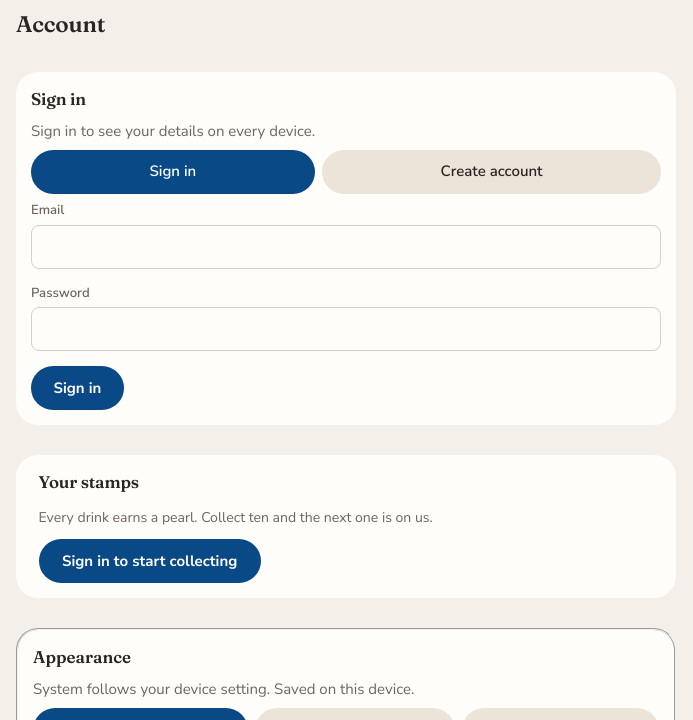
Test: AccountPage › signed out › offers sign in by default and creates an account on the other tab
Expected: the heading "Sign in" is shown, [31,89,86,109]
Click the button "Create account": (492, 172) [322,150,661,194]
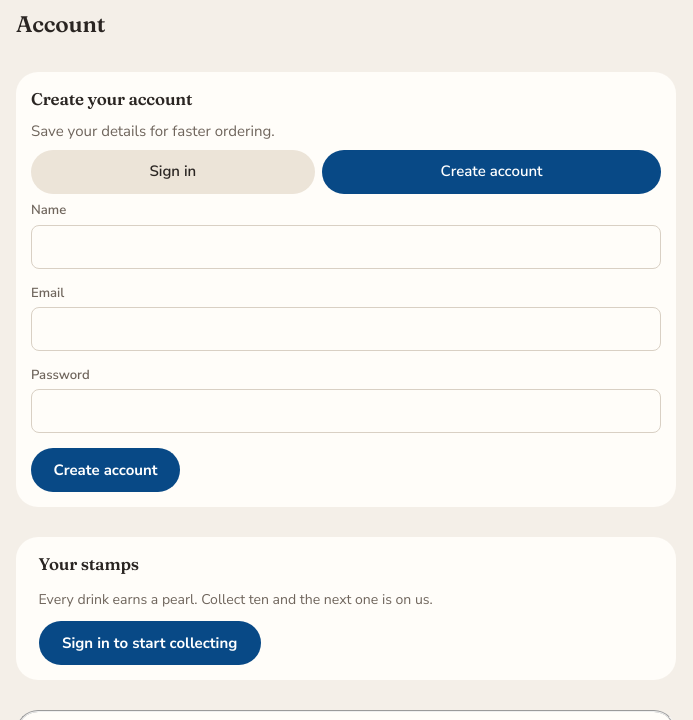
In the field labelled "Name": (346, 246) [31,224,661,268], type "Tristan"
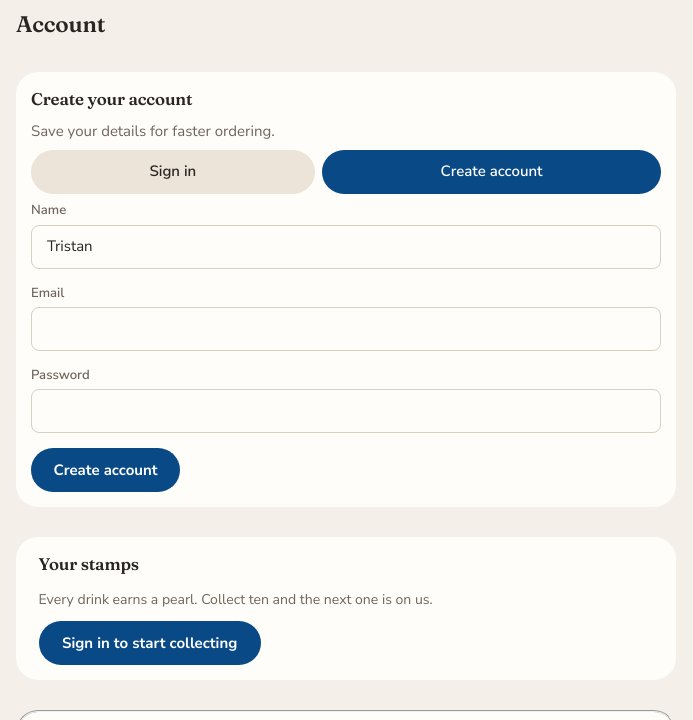
In the field labelled "Email": (346, 329) [31,307,661,351], type "tristan@example.com"
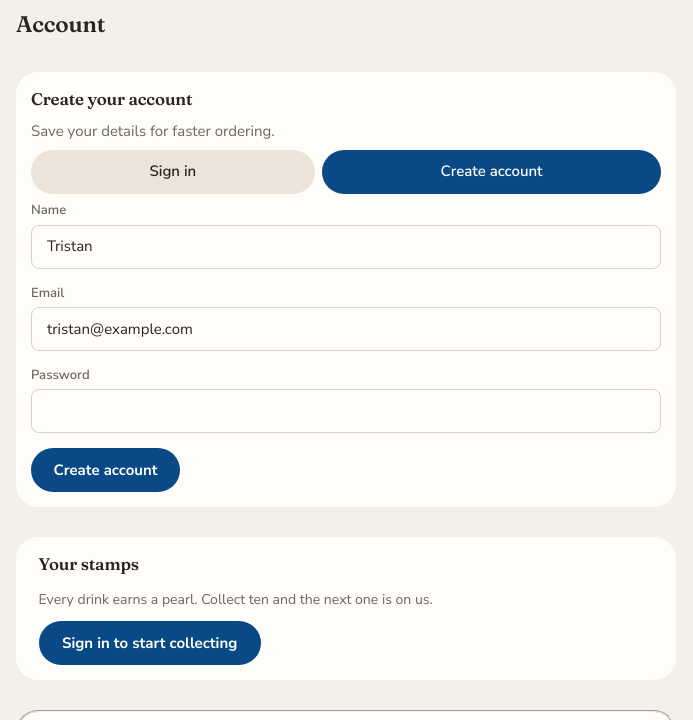
In the password field labelled "Password": (346, 411) [31,389,661,433], type "correct horse"
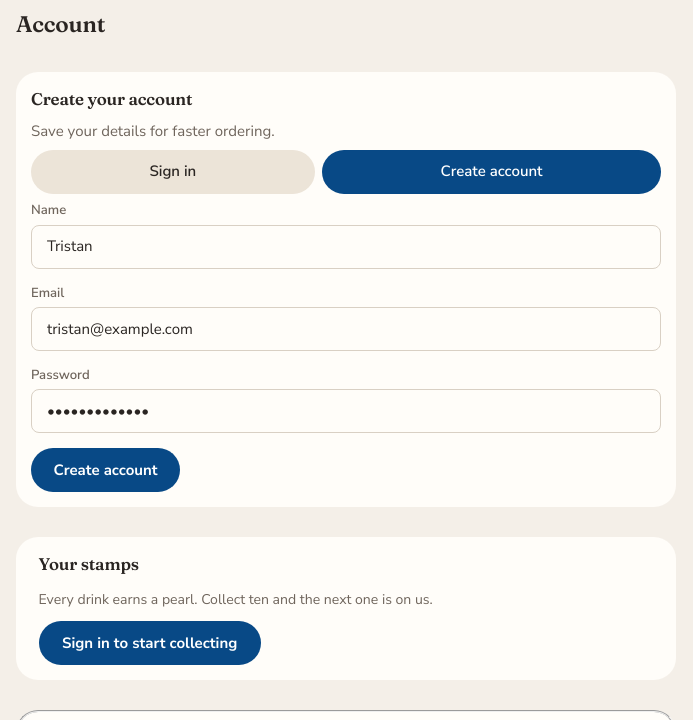
Submit the form from the button "Create account" below "Password", box [31,448,180,492]
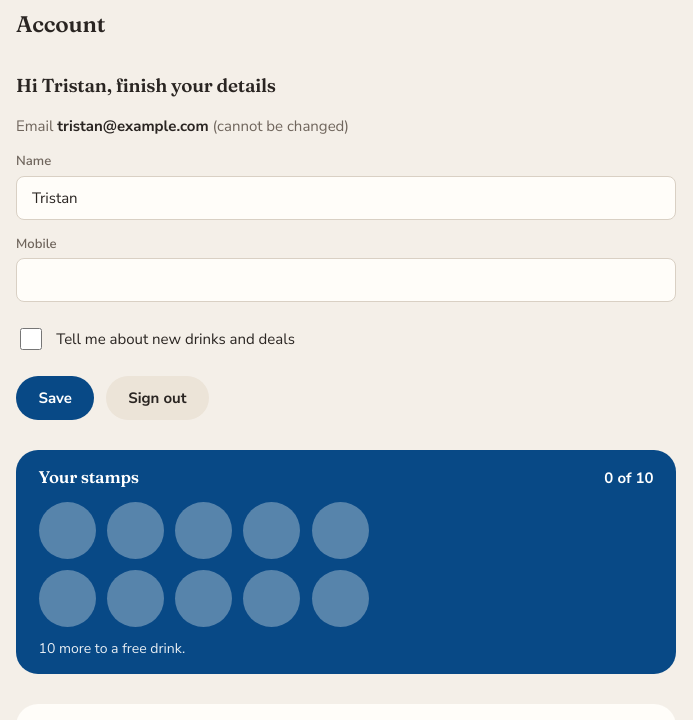
Now the heading "Hi Tristan, finish your details" is shown, box [16,74,276,97]
Now the text "tristan@example.com" is shown, box [57,116,209,136]
Now the field labelled "Name" holds "Tristan", box [16,176,676,220]
